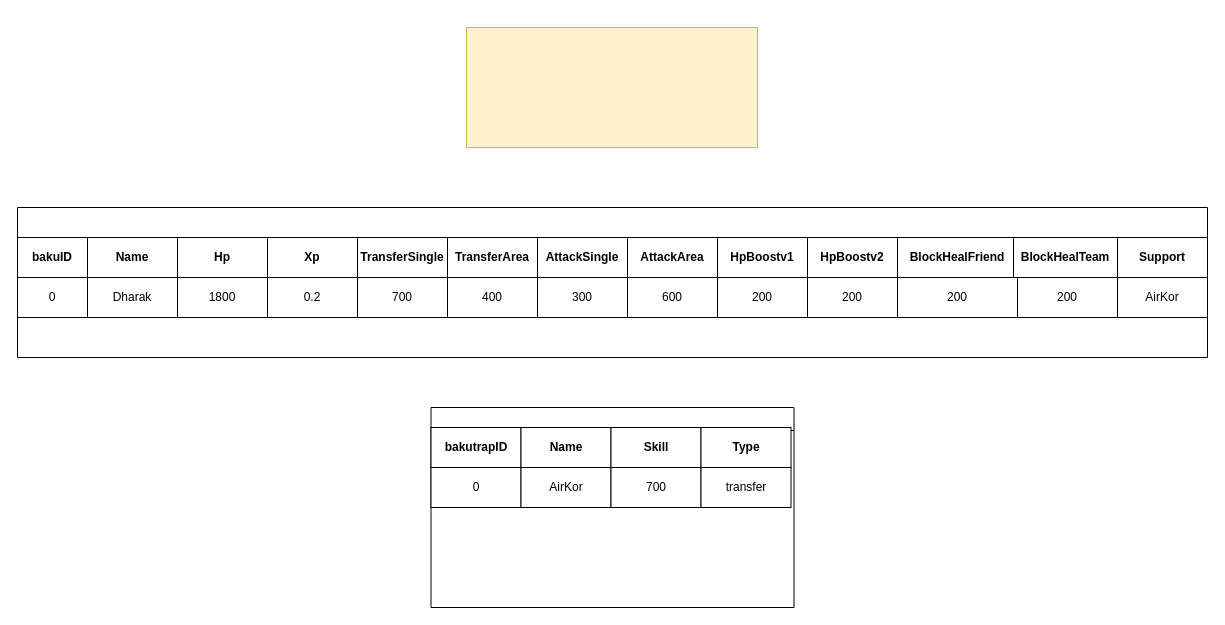
The diagram is 1225 pixels wide and 625 high, and some of its shapes have lost their labels. Each missing label, with the box of its shape:
BakuBattle Schemat bazy danych w serwisie MySql.: (466, 26, 758, 148)
Database - table Bakugan: (16, 206, 1208, 358)
Database - table BakuTrap: (430, 406, 794, 608)
